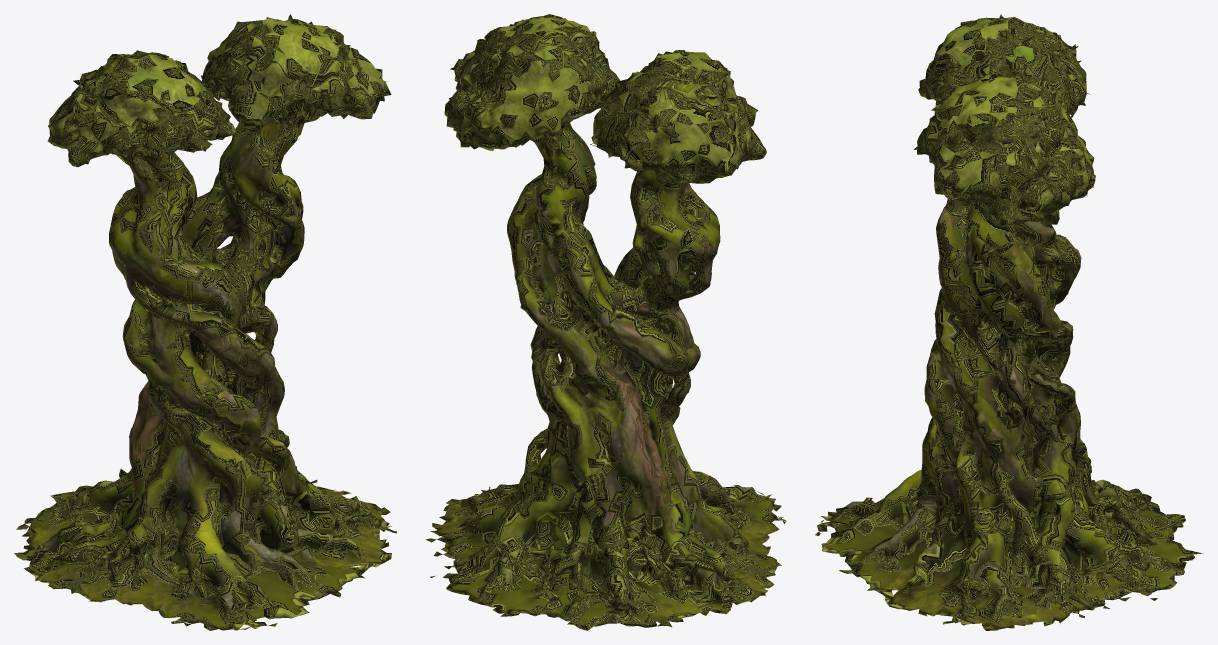
The picture shows the model from 3 angles, left to right: view 1: azimuth 30°, elevation 25°; view 2: azimuth 150°, elevation 25°; view 3: azimuth 270°, elevation 25°; orthographic projection.
Bounding box in the file's own units: 1.31 × 1.91 × 1.33.
Materials: 1 (1 with a texture image).
